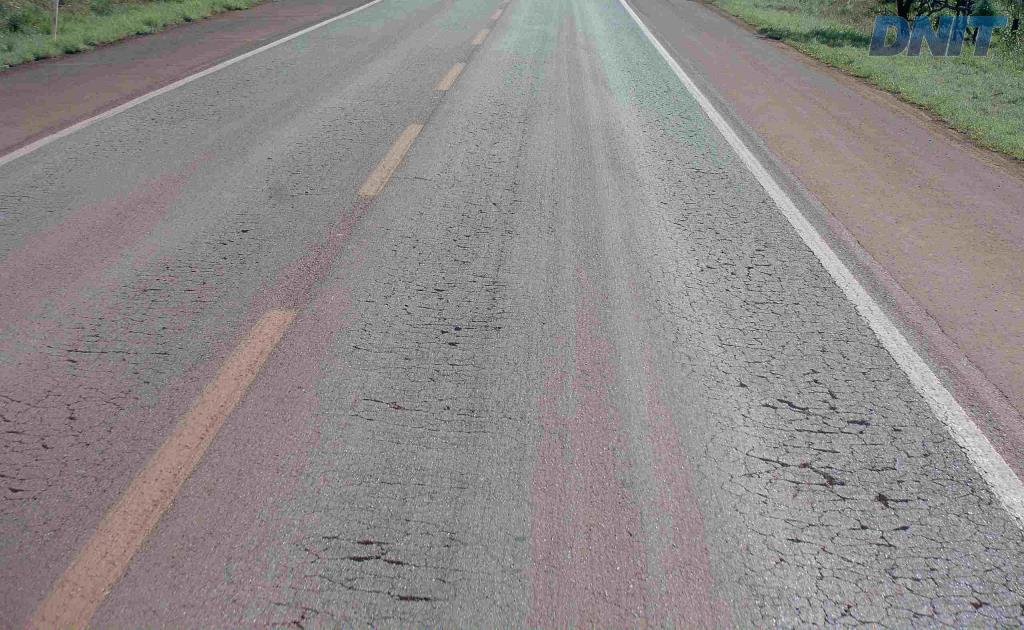crack: (746, 453, 857, 501), (339, 539, 420, 571)
